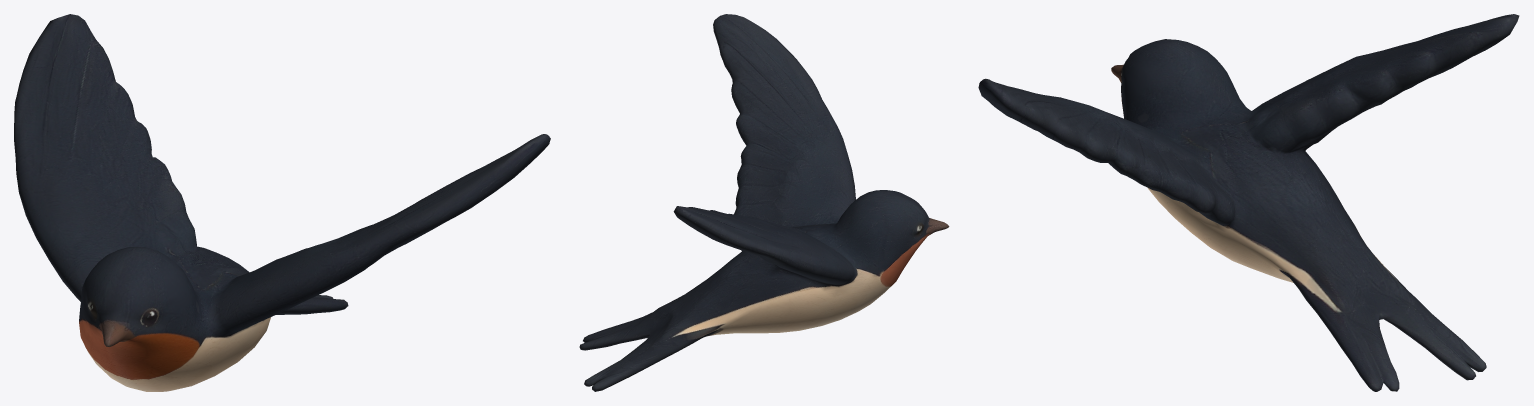
File: birdfly.fbx
3 views of the same model, side by side, from view 1: azimuth 30°, elevation 25°; view 2: azimuth 150°, elevation 25°; view 3: azimuth 270°, elevation 25° (orthographic). The views are drawn at different scales.
Parts seen in each view (by area): view 1: birdfly; view 2: birdfly; view 3: birdfly.
Part boxes in pixels (x1=…): birdfly: x1=14, y1=14, x2=550, y2=391; birdfly: x1=579, y1=14, x2=949, y2=391; birdfly: x1=978, y1=14, x2=1519, y2=391.
Bounding box in the file's own units: 92.56 × 59.72 × 73.43.
